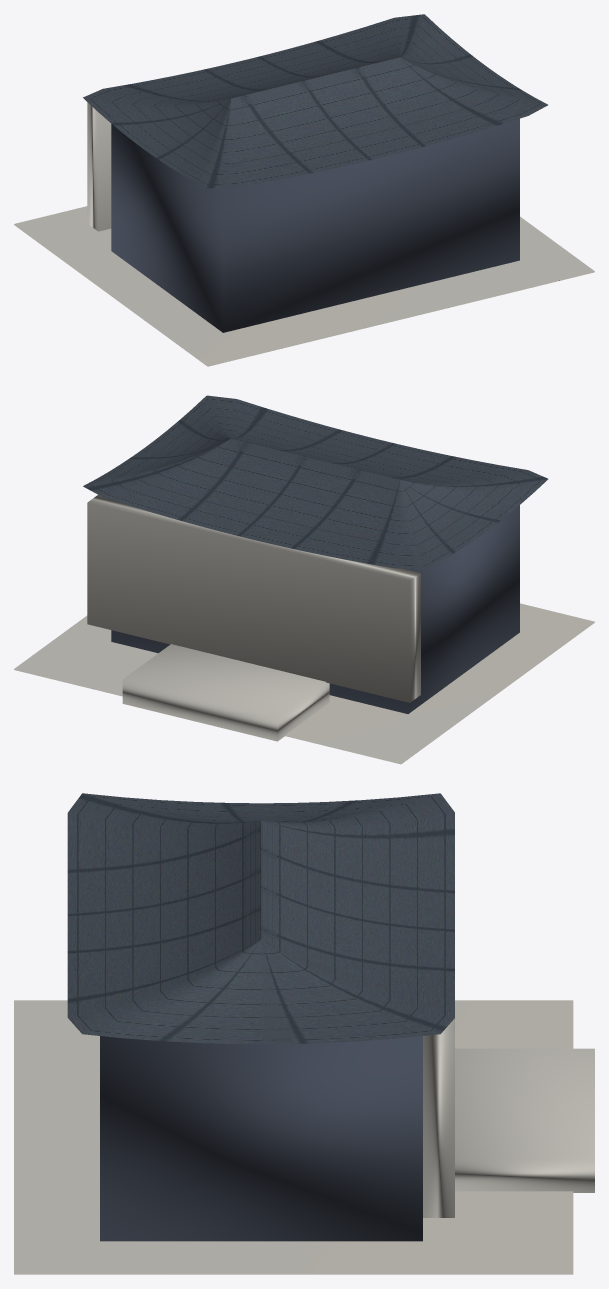
3 renders of one model, top to bottom at view 1: azimuth 30°, elevation 25°; view 2: azimuth 150°, elevation 25°; view 3: azimuth 270°, elevation 25°, orthographic. The views are drawn at different scales.
Parts seen in each view (by area): view 1: roof_simplified, stairs_simplified, colonnade_simplified; view 2: roof_simplified, colonnade_simplified, stairs_simplified; view 3: roof_simplified, stairs_simplified, colonnade_simplified.
Boxes of the visible parts, <box> form: roof_simplified: <box>83,14,547,332</box>; stairs_simplified: <box>14,206,594,366</box>; colonnade_simplified: <box>87,102,111,231</box>; roof_simplified: <box>83,395,548,713</box>; colonnade_simplified: <box>87,495,420,702</box>; stairs_simplified: <box>14,603,594,764</box>; roof_simplified: <box>67,793,454,1241</box>; stairs_simplified: <box>14,1000,594,1274</box>; colonnade_simplified: <box>423,1018,454,1217</box>.
Size of the model in its own units: 60 by 26.5 by 54.
3 materials, 3 textured.
